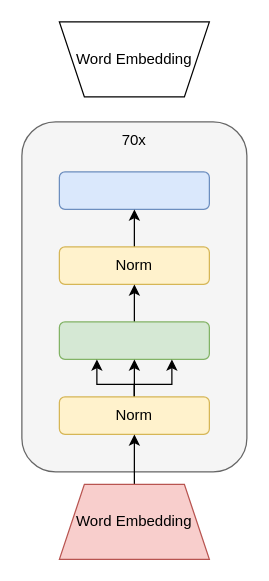
The diagram is 269 pixels wide and 581 high, and some of its shapes have lost their labels. The centre of each missing label's shape, as x and y in pixels:
"MLP" belongs at point (133, 190).
"Multihead-attention" belongs at point (133, 340).
